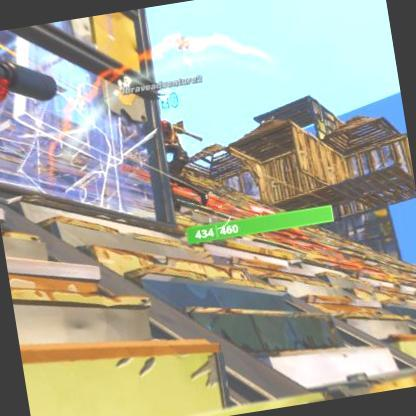person: (154, 117, 196, 205)
